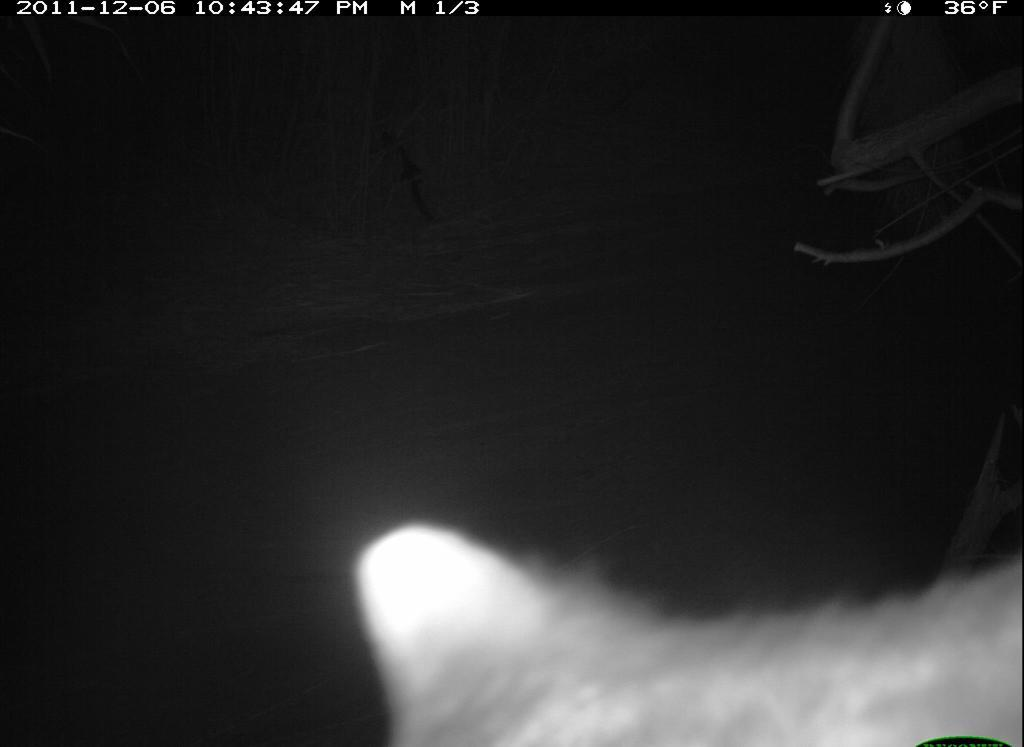raccoon: (332, 516, 1023, 747)
